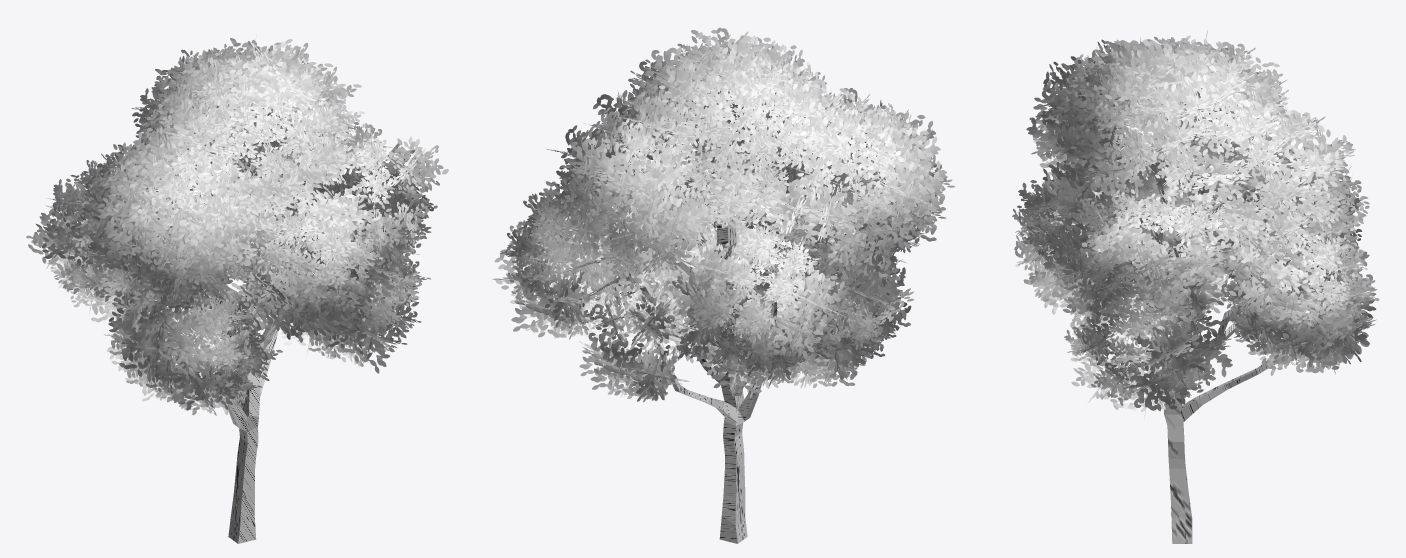
Rendered from BirchTree02.fbx.
The picture shows the model from 3 angles, left to right: view 1: azimuth 30°, elevation 25°; view 2: azimuth 150°, elevation 25°; view 3: azimuth 270°, elevation 25°; orthographic projection. The views are drawn at different scales.
Parts seen in each view (by area): view 1: BirchTree02_LOD0; view 2: BirchTree02_LOD0; view 3: BirchTree02_LOD0.
Boxes of the visible parts, left/top/right/bottom form: BirchTree02_LOD0: left=26, top=35, right=448, bottom=543; BirchTree02_LOD0: left=492, top=27, right=954, bottom=543; BirchTree02_LOD0: left=1012, top=29, right=1379, bottom=543.
Size of what is drawn, in the model's own units: 625 by 802 by 545.
Materials: 2 (2 with a texture image).
